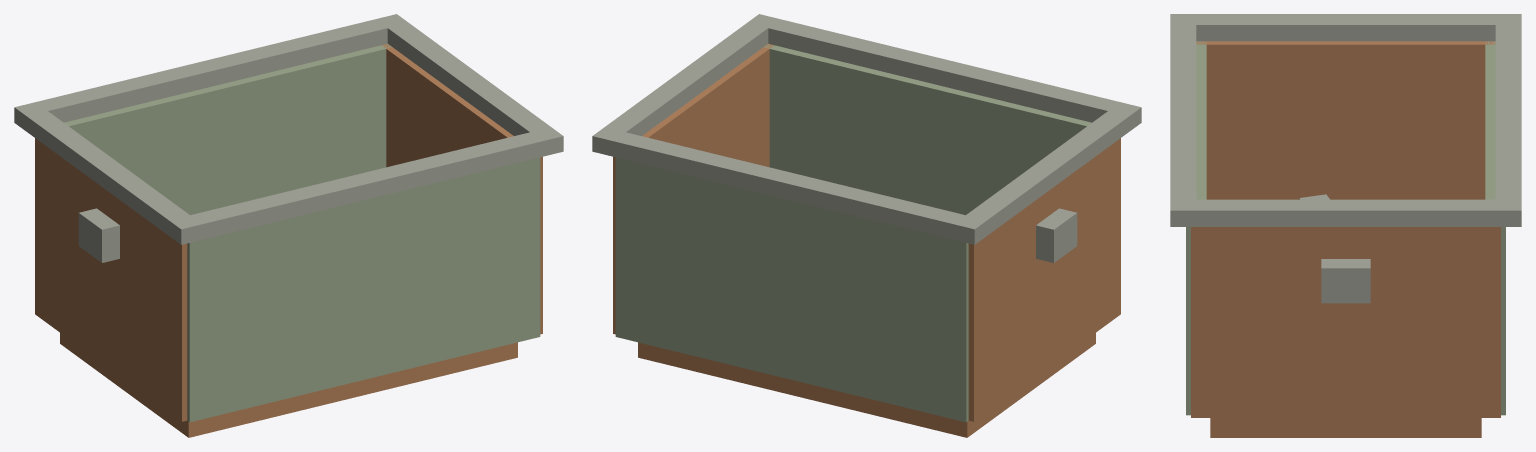
The model's file is reclamation-yard-open-scrap-collection-skip__235.glb.
3 renders of one model, left to right at view 1: azimuth 30°, elevation 25°; view 2: azimuth 150°, elevation 25°; view 3: azimuth 270°, elevation 25°, orthographic. The views are drawn at different scales.
Visible parts, largest first — view 1: shell, accent, metal; view 2: shell, accent, metal; view 3: accent, metal, shell.
Part boxes in pixels (box(x1,y1,x2,y2)): shell: box(64, 43, 540, 422); accent: box(35, 44, 542, 437); metal: box(14, 14, 563, 262); shell: box(615, 44, 1091, 422); accent: box(613, 43, 1120, 437); metal: box(592, 14, 1141, 262); accent: box(1191, 41, 1500, 437); metal: box(1170, 14, 1521, 303); shell: box(1186, 41, 1505, 415).
Size of the model in its own units: 1.87 by 1.03 by 1.36.
